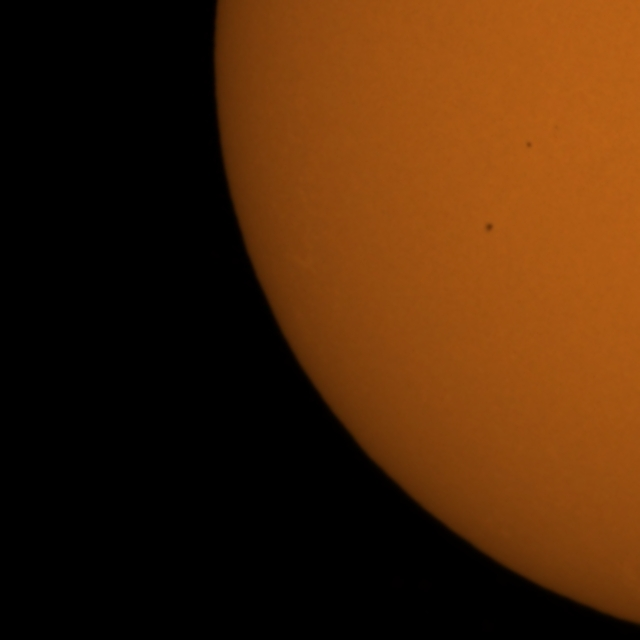sunspot: (483, 220, 495, 234), (524, 139, 534, 150)
